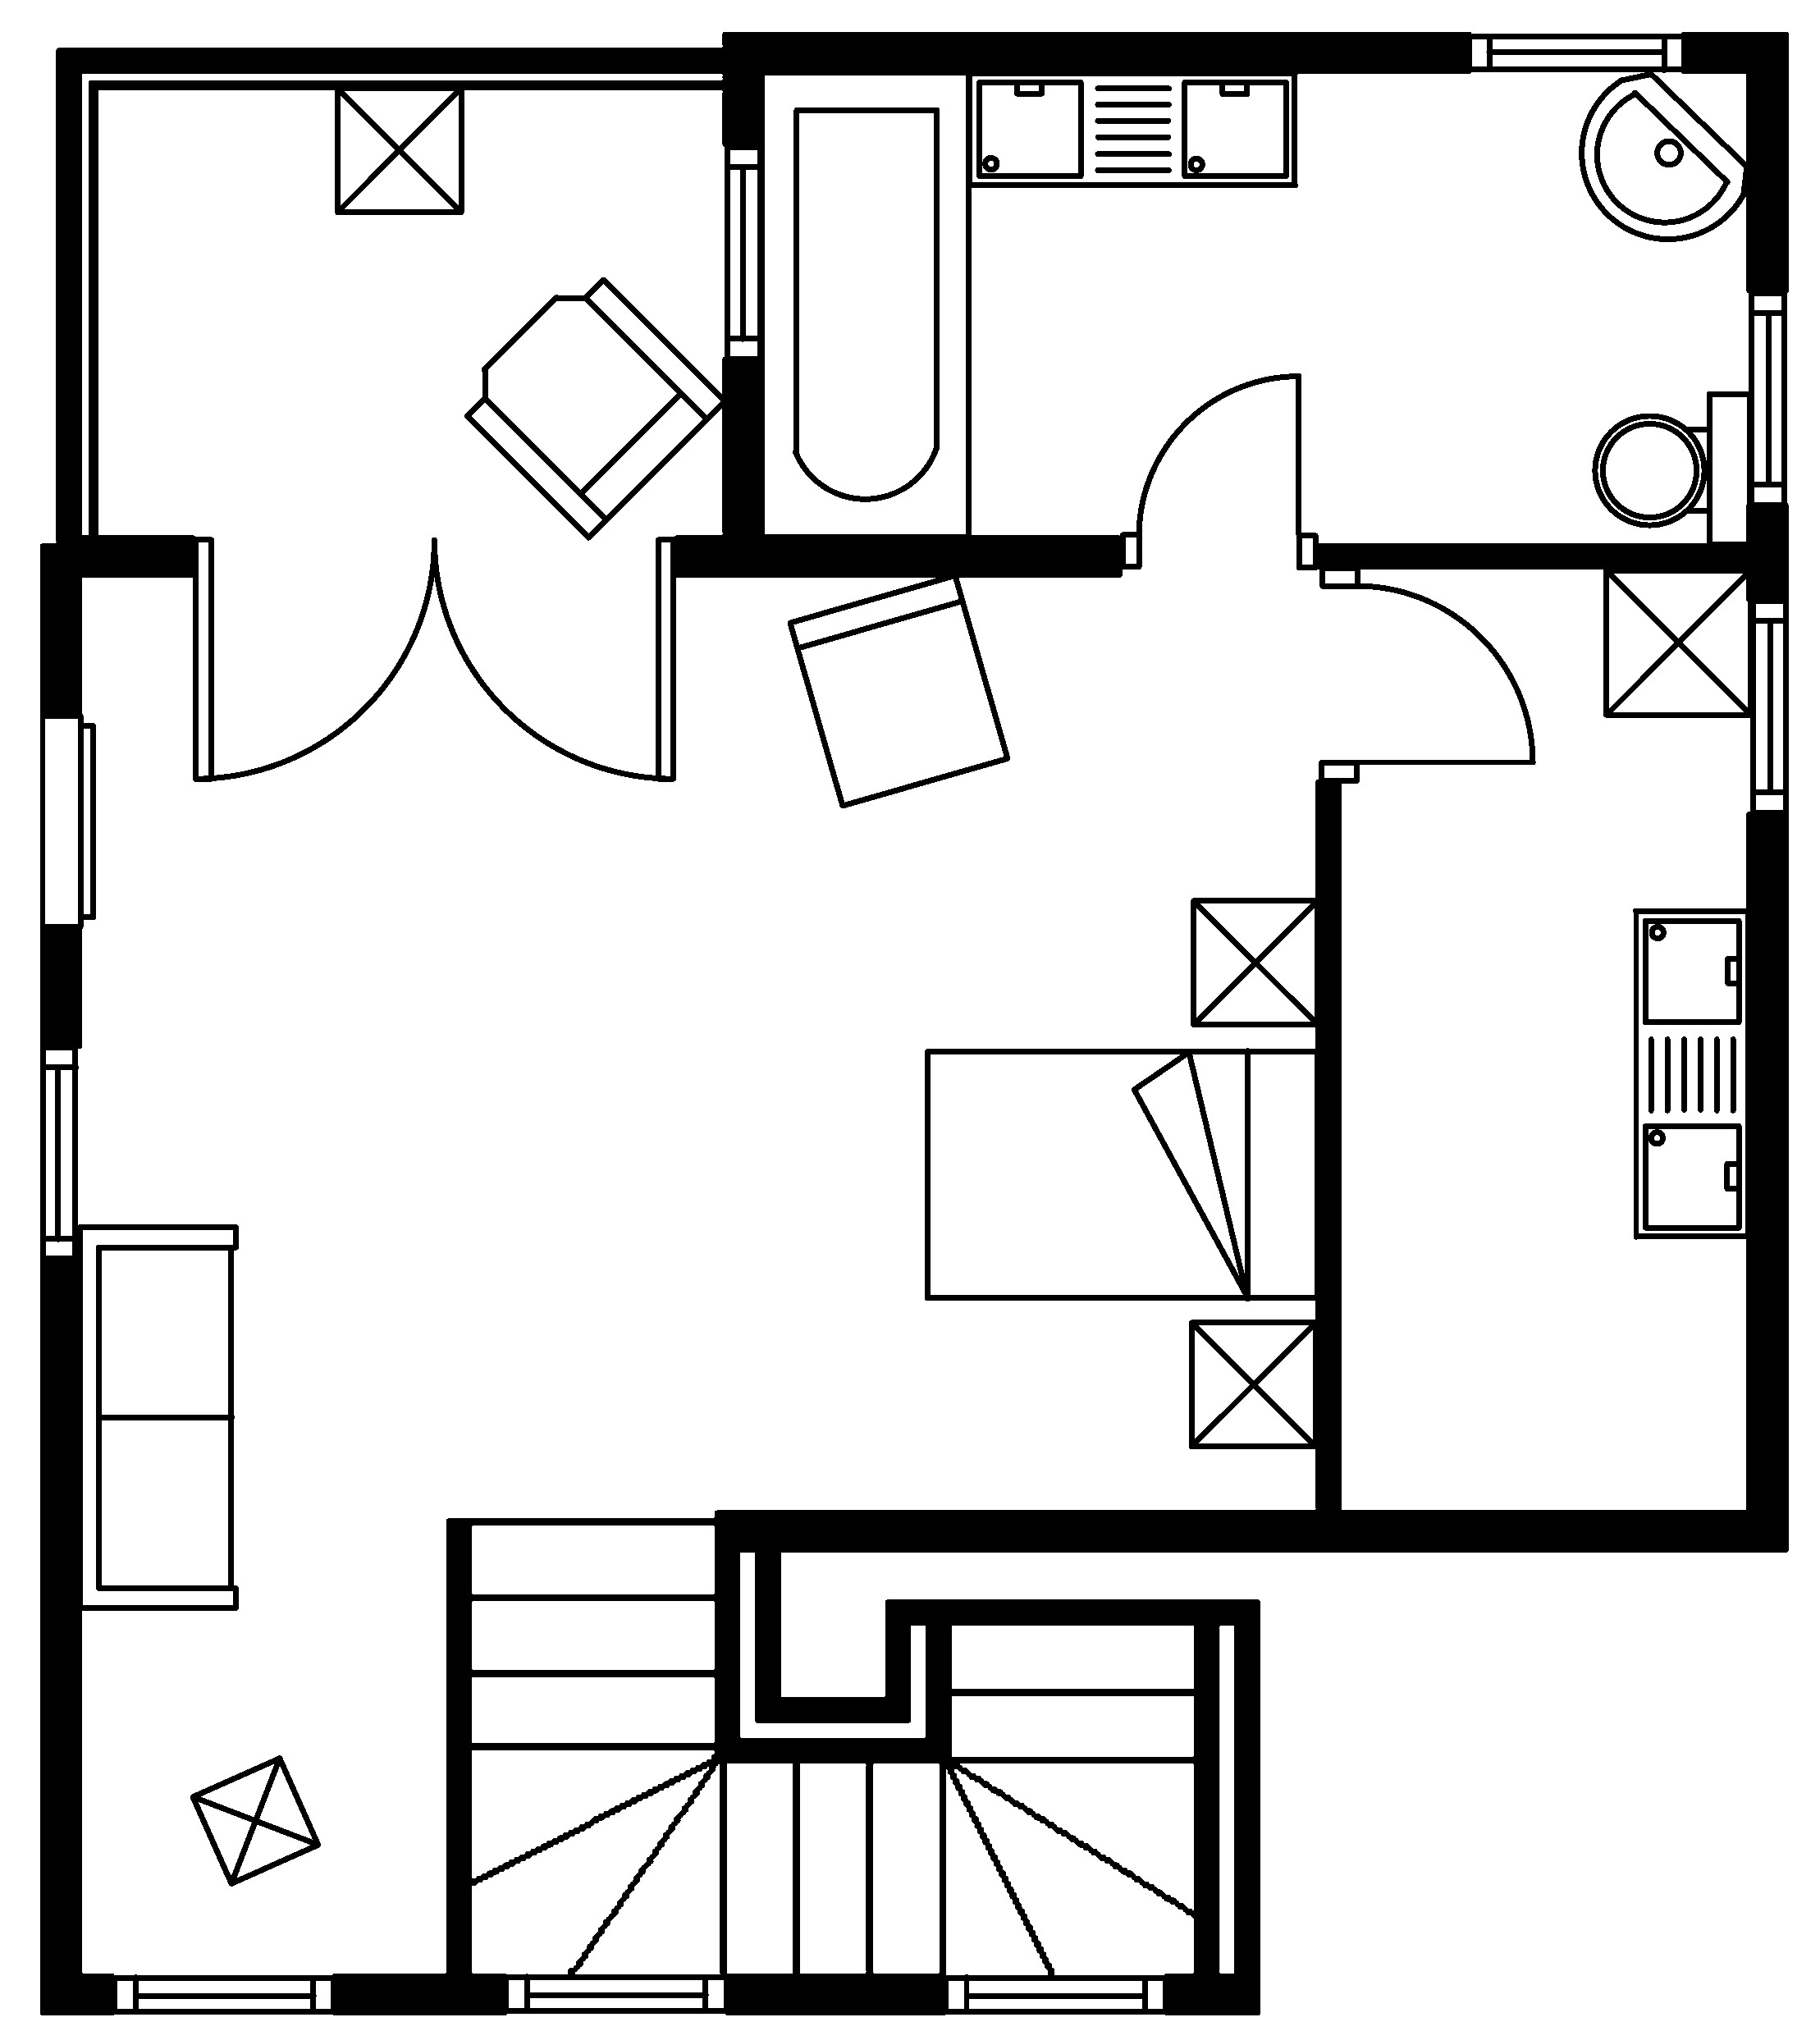armchair: (462, 274, 727, 541)
bed: (922, 1047, 1321, 1302)
coffee_table: (1602, 566, 1753, 719), (188, 1753, 321, 1887), (1186, 1318, 1319, 1449), (1189, 896, 1321, 1028), (332, 84, 464, 214)
large_sink: (1592, 388, 1753, 548)
large_sofa: (76, 1223, 239, 1611)
small_sink: (1578, 70, 1750, 241)
small_sofa: (785, 571, 1010, 810)
tub: (757, 69, 971, 539)
twin_sink: (1630, 907, 1750, 1240), (964, 69, 1298, 188)
